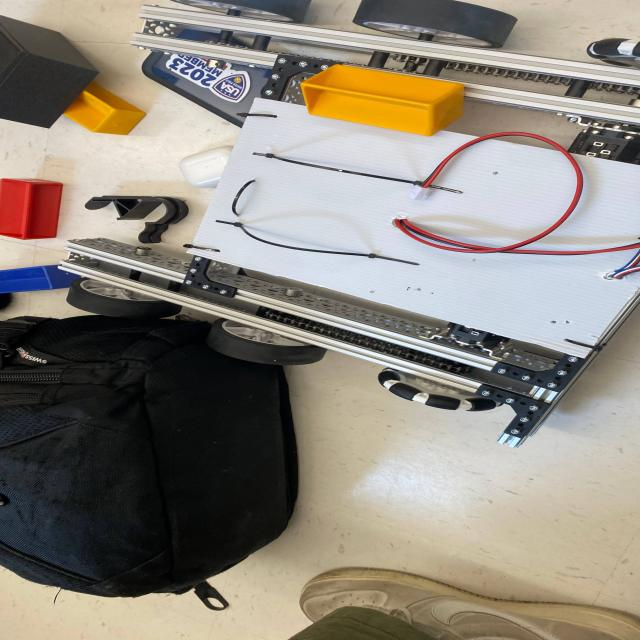blue-specimen: (0, 265, 80, 294)
red-specimen: (0, 178, 63, 240)
yellow-specimen: (301, 65, 464, 136), (63, 83, 146, 135)
